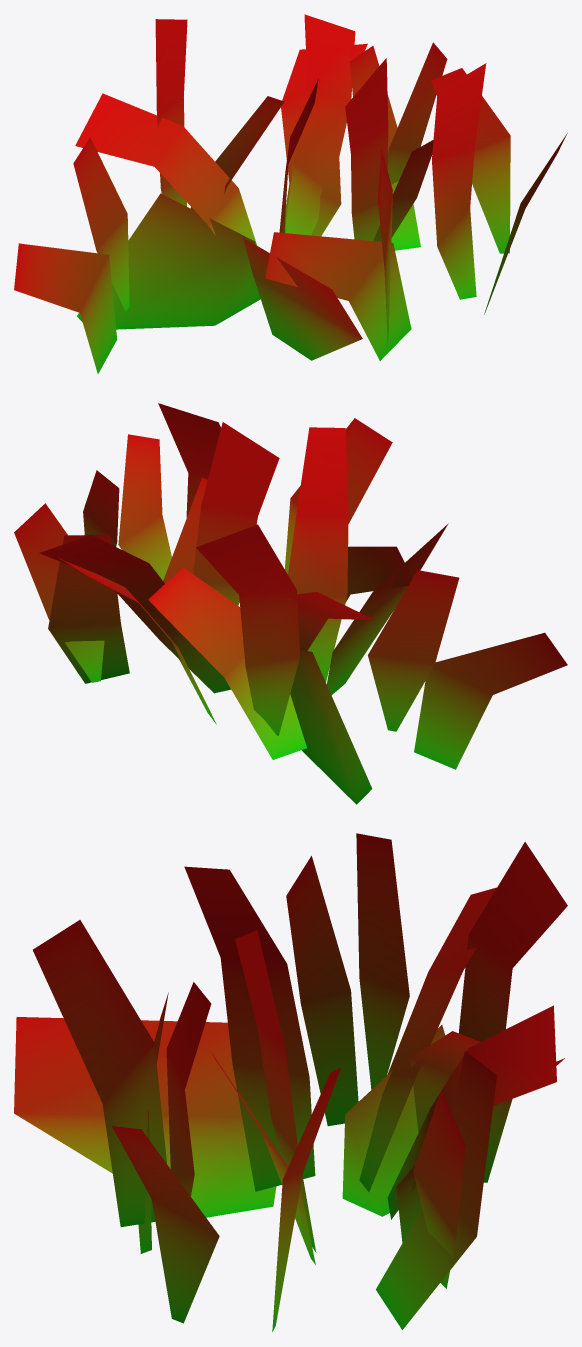
Rendered from Var1_LOD1.fbx.
The picture shows the model from 3 angles, top to bottom: view 1: azimuth 30°, elevation 25°; view 2: azimuth 150°, elevation 25°; view 3: azimuth 270°, elevation 25°; orthographic projection. The views are drawn at different scales.
Visible parts, largest first — view 1: _2c08_Var1_LOD1; view 2: _2c08_Var1_LOD1; view 3: _2c08_Var1_LOD1.
Part boxes in pixels (x1,y1,x2,y2): _2c08_Var1_LOD1: (14, 14, 567, 373); _2c08_Var1_LOD1: (14, 403, 567, 804); _2c08_Var1_LOD1: (14, 833, 567, 1331).
Size of the model in its own units: 9.27 by 5.03 by 6.47.
